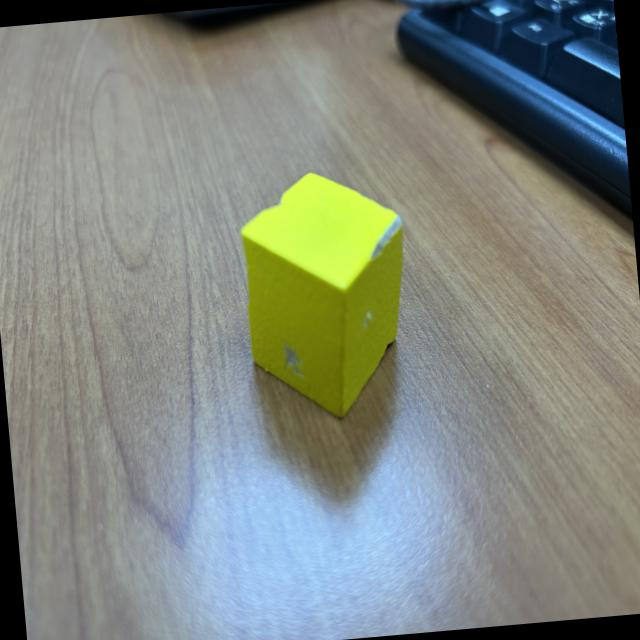broken: (235, 163, 420, 427)
